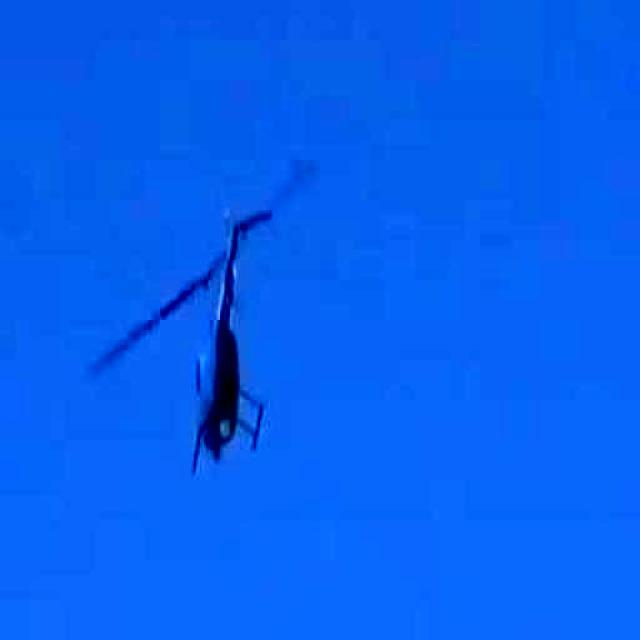drone: (79, 181, 335, 499)
